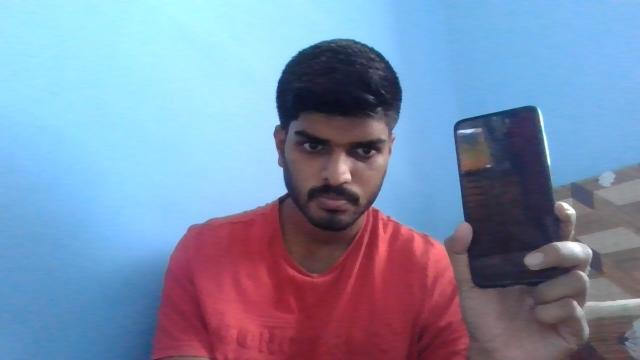PhoneUse: (451, 102, 565, 290)
SafeDriving: (344, 136, 387, 162), (292, 132, 335, 158)
